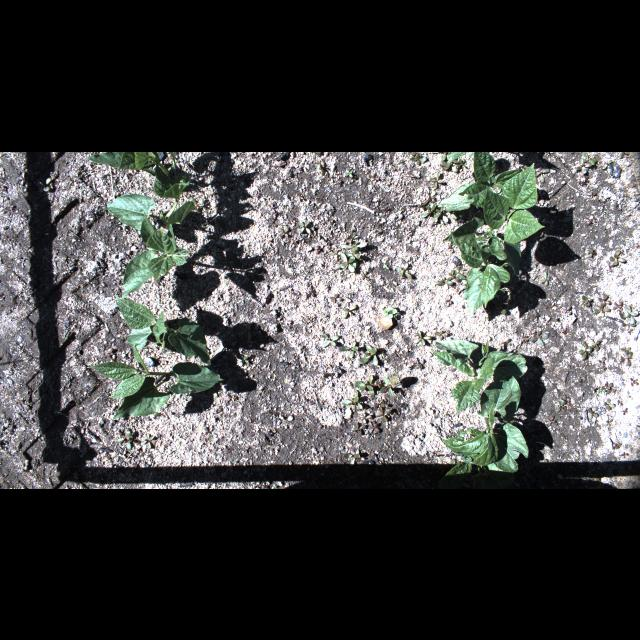crop: (88, 342, 224, 418), (442, 374, 528, 472), (431, 338, 527, 412), (115, 294, 212, 364), (104, 165, 196, 229), (122, 214, 192, 298), (450, 231, 510, 317), (438, 151, 522, 211), (483, 162, 545, 242), (443, 216, 521, 274), (86, 151, 178, 175), (470, 462, 514, 488), (437, 458, 471, 488), (447, 151, 467, 163), (469, 152, 475, 156)
weed: (355, 376, 385, 394), (379, 376, 399, 398), (342, 390, 362, 410), (116, 427, 132, 451), (358, 346, 378, 364), (531, 326, 549, 346), (620, 304, 638, 324), (340, 340, 358, 358), (340, 252, 356, 272), (321, 332, 341, 348), (412, 330, 432, 346), (434, 204, 450, 223), (395, 262, 413, 278), (140, 433, 156, 449), (534, 166, 550, 182), (610, 249, 626, 265), (574, 158, 592, 172), (344, 240, 368, 250), (365, 344, 377, 364), (38, 177, 54, 191), (344, 244, 360, 258), (342, 304, 358, 318), (376, 406, 390, 422), (350, 422, 366, 436), (422, 202, 436, 218), (577, 343, 591, 359), (240, 321, 252, 339), (430, 170, 442, 188), (593, 304, 611, 316), (409, 152, 426, 164), (329, 247, 343, 261), (384, 304, 398, 318), (359, 412, 373, 426), (538, 271, 552, 285), (344, 453, 360, 465), (581, 152, 597, 164), (620, 350, 632, 366), (299, 218, 311, 232), (555, 398, 567, 412), (452, 158, 468, 168), (436, 278, 452, 288), (622, 318, 636, 329), (238, 354, 250, 366), (368, 420, 380, 432), (440, 158, 452, 170), (580, 294, 592, 306), (598, 294, 610, 306), (545, 414, 557, 426), (16, 170, 26, 184), (434, 330, 448, 340), (374, 398, 388, 408), (335, 262, 357, 268), (588, 338, 600, 349), (315, 162, 325, 174), (280, 226, 290, 238), (346, 232, 358, 242), (449, 210, 461, 220), (588, 406, 598, 418), (588, 477, 600, 487), (330, 293, 342, 303), (619, 347, 633, 355), (604, 398, 614, 409), (602, 159, 612, 169), (587, 248, 597, 258), (602, 415, 612, 425), (562, 304, 572, 314), (596, 356, 606, 366), (456, 272, 468, 280), (601, 383, 613, 391), (563, 394, 571, 406), (440, 152, 450, 160), (496, 306, 506, 314), (630, 377, 640, 385), (611, 442, 621, 450), (446, 294, 452, 306), (448, 269, 454, 281), (454, 265, 466, 271), (345, 168, 353, 176), (613, 301, 621, 309), (620, 450, 628, 458), (462, 289, 468, 299), (586, 191, 596, 197), (314, 244, 320, 254), (312, 151, 321, 157), (430, 190, 436, 198), (496, 288, 504, 294), (620, 151, 628, 157), (598, 388, 606, 394), (622, 407, 628, 415), (618, 399, 622, 405), (432, 152, 440, 152)
